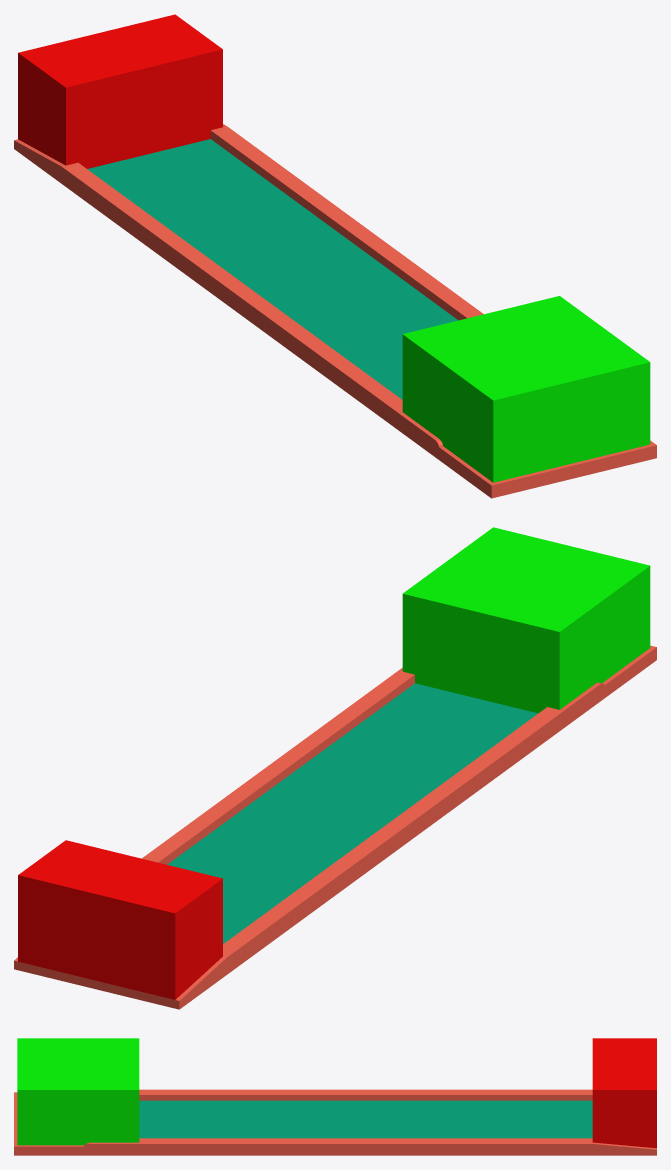
Rendered from track_straight.glb.
3 views of the same model, one above another, from view 1: azimuth 30°, elevation 25°; view 2: azimuth 150°, elevation 25°; view 3: azimuth 270°, elevation 25° (orthographic). The views are drawn at different scales.
Parts seen in each view (by area): view 1: straight (×3), start_block, finish_block, start, start_closed; view 2: straight (×3), start_block, finish_block, start, start_closed; view 3: straight (×3), start_block, finish_block, start, start_closed.
Boxes of the visible parts, x1,y1,x2,y2 form: straight (×3): (109,161,483,428); start_block: (402,296,650,482); finish_block: (18,14,222,168); start: (14,124,274,218); start_closed: (396,410,656,498); straight (×3): (142,672,561,939); start_block: (402,527,650,713); finish_block: (18,840,222,999); start: (14,918,274,1009); start_closed: (396,645,656,729); straight (×3): (142,1089,528,1155); start_block: (17,1038,139,1145); finish_block: (592,1038,656,1148); start: (528,1089,656,1155); start_closed: (14,1089,142,1155).
Size of the model in its own units: 2 by 1.1 by 10.
